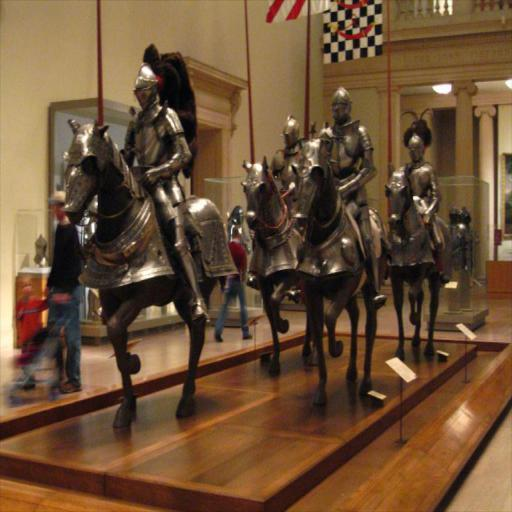Horse: (65, 119, 221, 431), (291, 122, 387, 406), (241, 158, 312, 374), (386, 163, 446, 363)
